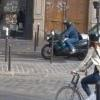Bicycle: (51, 62, 99, 100)
